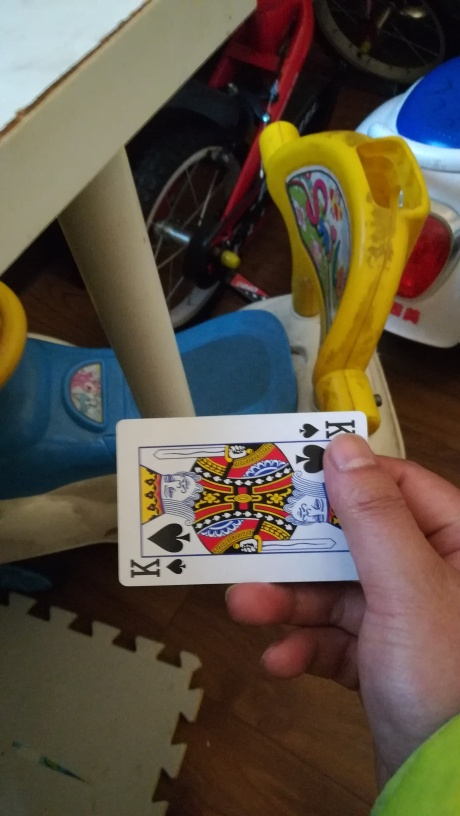ht k: (113, 409, 382, 592)
